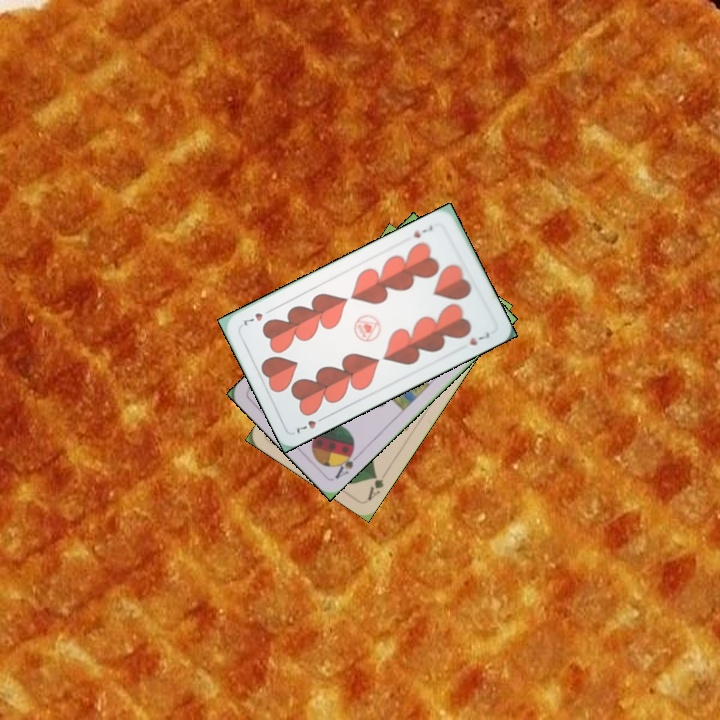GA: (363, 469, 386, 503)
H7: (291, 412, 329, 436), (410, 221, 435, 241)
SA: (331, 445, 362, 482)
